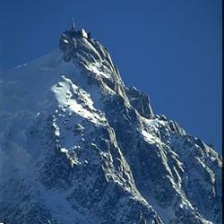neutral: (4, 3, 218, 217)
